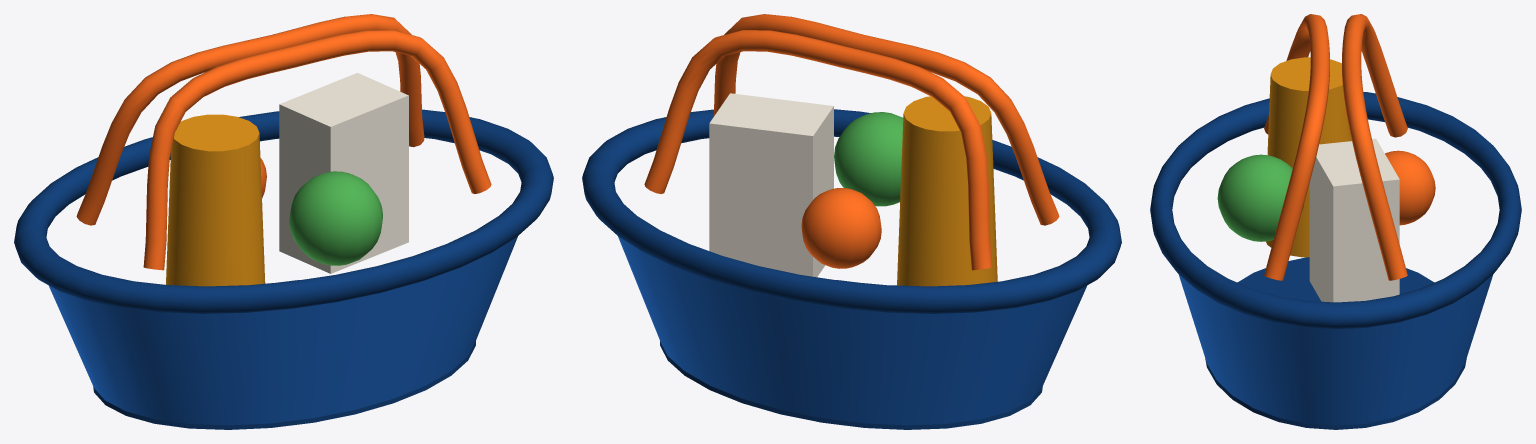
The model's file is grocery-basket.glb.
3 renders of one model, left to right at view 1: azimuth 30°, elevation 25°; view 2: azimuth 150°, elevation 25°; view 3: azimuth 270°, elevation 25°, orthographic. The views are drawn at different scales.
Parts seen in each view (by area): view 1: GroceryBasket; view 2: GroceryBasket; view 3: GroceryBasket.
Part boxes in pixels (left/top/right/bottom): GroceryBasket: left=14, top=14, right=553, bottom=429; GroceryBasket: left=582, top=14, right=1121, bottom=429; GroceryBasket: left=1150, top=14, right=1521, bottom=429.
Bounding box in the file's own units: 1.71 × 1.05 × 1.19.
